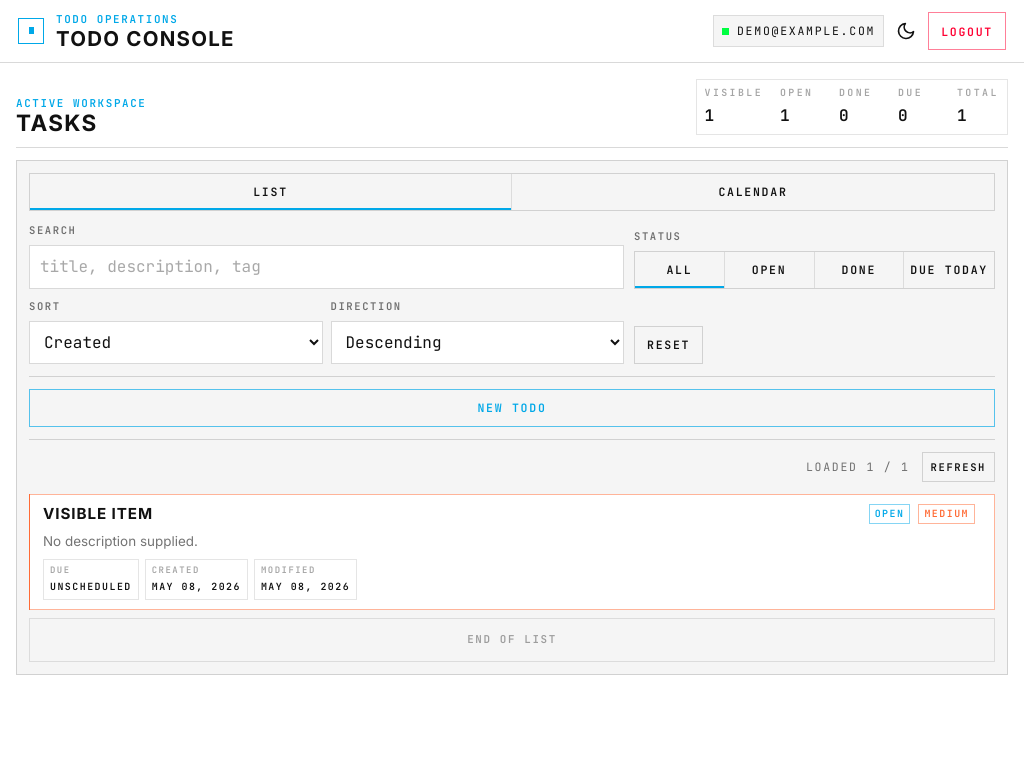
Test: auth boundary discipline › ToastError_OnDeleteFailure_ExposesAriaLiveRegion
The width and height of the screenshot is (1024, 768).
Expected: the heading "Visible Item" is shown, [43, 504, 153, 523]
Click the list item at (512, 552), box [29, 494, 995, 610]
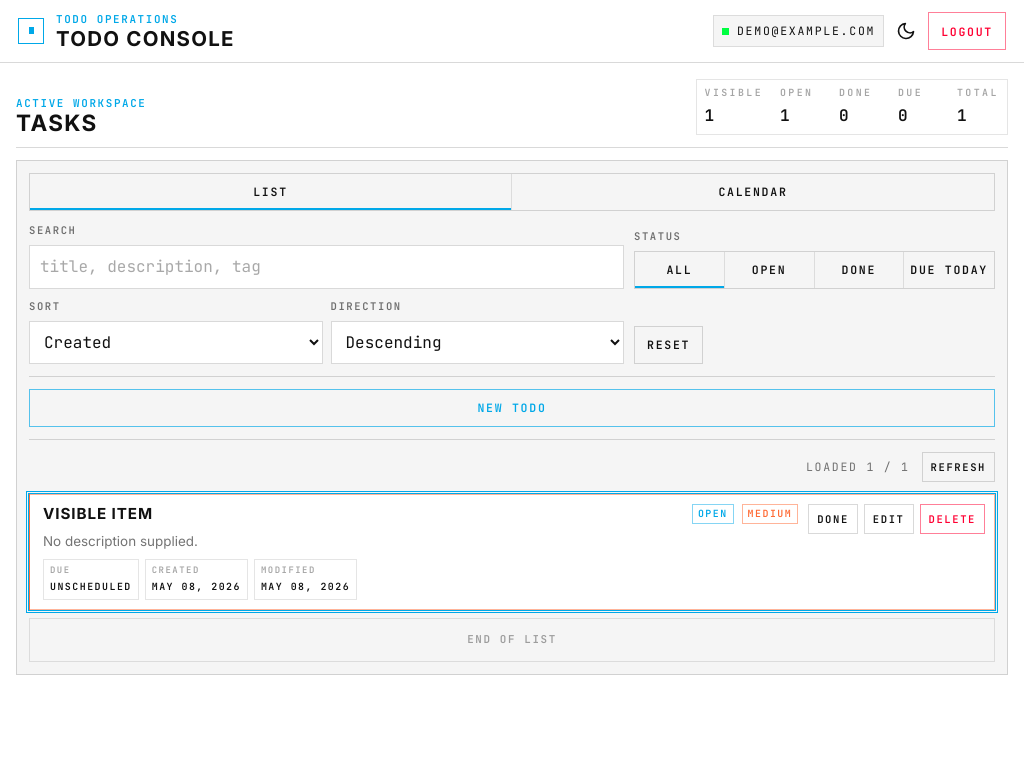
Click the button with aria-label "delete todo Visible Item" at (952, 519), box [920, 504, 985, 534]
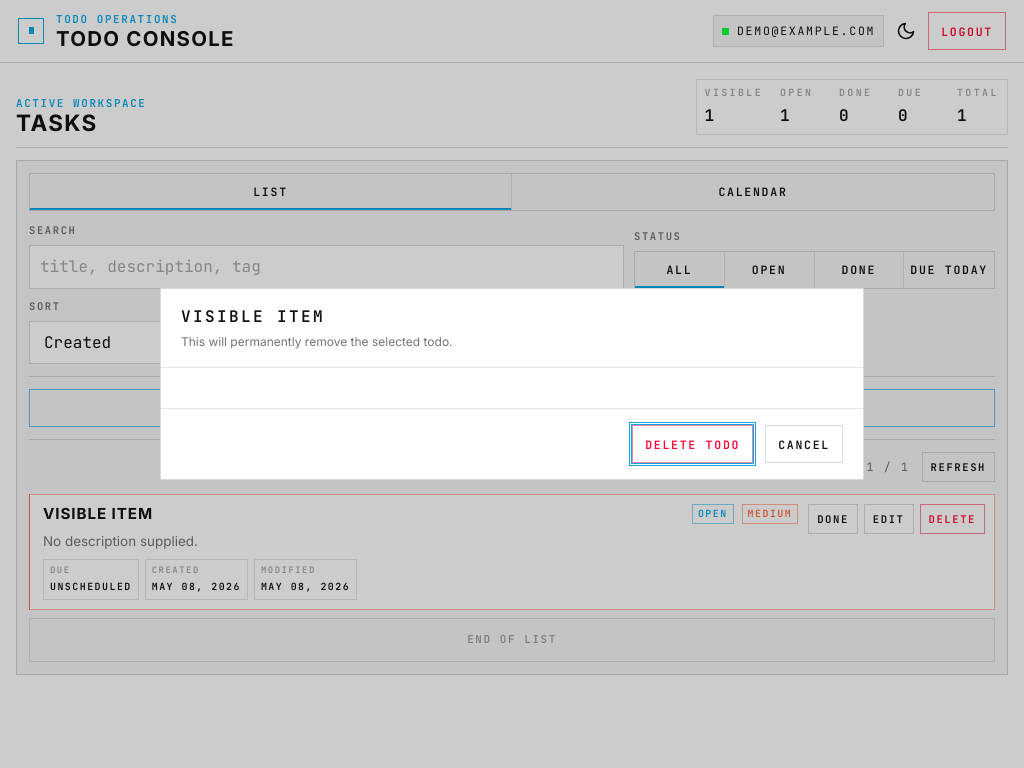
Click the button with test id "todo-delete-confirm" at (693, 444), box [632, 425, 753, 463]
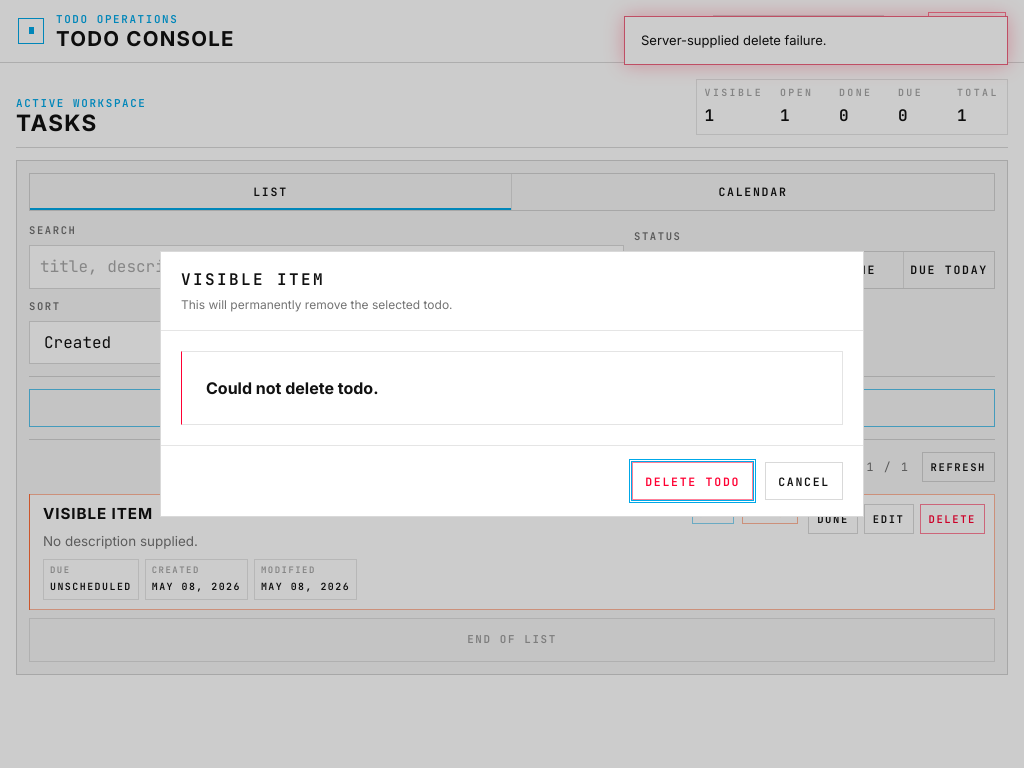
Now the text "Server-supplied delete failure." is shown, box [624, 16, 1008, 65]
